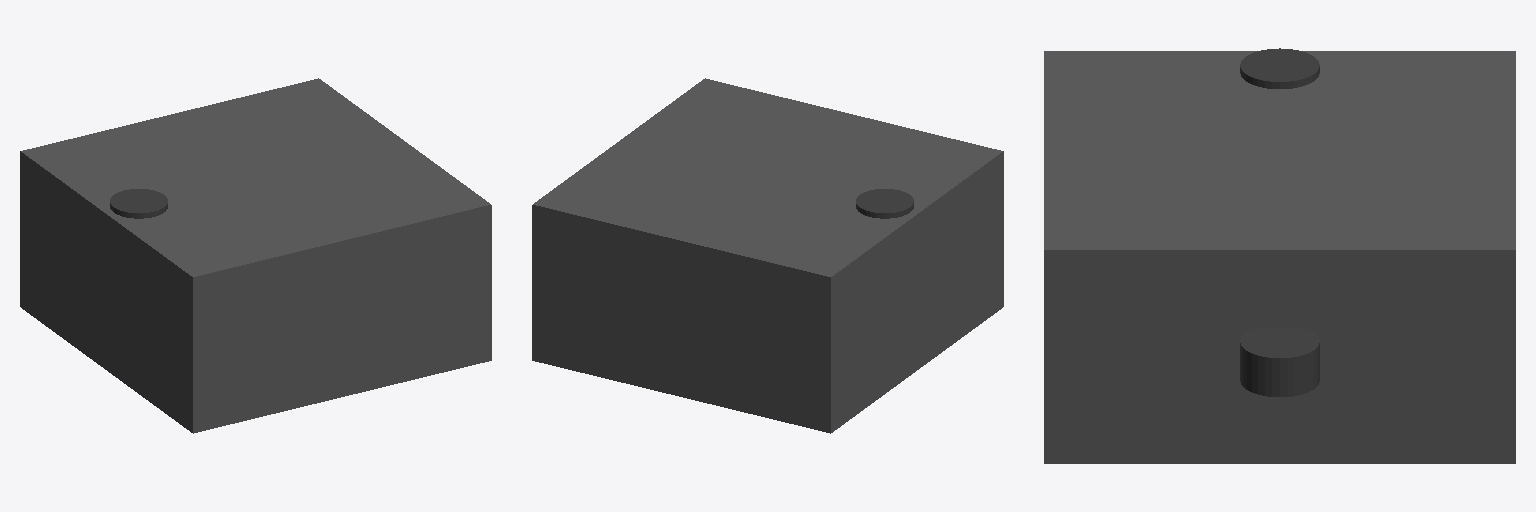
robot.urdf — sendbooster_agv:
<?xml version="1.0"?>
<robot name="sendbooster_agv"
  xmlns:xacro="http://ros.org/wiki/xacro">

  <!-- Material definitions -->
  <material name="black">
    <color rgba="0.0 0.0 0.0 1.0"/>
  </material>
  <material name="dark">
    <color rgba="0.3 0.3 0.3 1.0"/>
  </material>
  <material name="light_black">
    <color rgba="0.4 0.4 0.4 1.0"/>
  </material>

  <!-- Base footprint -->
  <link name="base_footprint"/>

  <joint name="base_joint" type="fixed">
    <parent link="base_footprint"/>
    <child link="base_link"/>
    <origin xyz="0 0 0" rpy="0 0 0"/>
  </joint>

  <!-- Base link -->
  <link name="base_link">
    <visual>
      <origin xyz="0 0 0.11725" rpy="0 0 0"/>
      <geometry>
        <box size="0.6 0.6 0.3"/>
      </geometry>
      <material name="light_black"/>
    </visual>

    <collision>
      <origin xyz="0 0 0.11725" rpy="0 0 0"/>
      <geometry>
        <box size="0.6 0.6 0.3"/>
      </geometry>
    </collision>
  </link>

  <!-- Left wheel -->
  <joint name="wheel_left_joint" type="continuous">
    <parent link="base_link"/>
    <child link="wheel_left_link"/>
    <origin xyz="0 0.16 0.09330" rpy="1.57 0 0"/>
    <axis xyz="0 0 1"/>
  </joint>

  <link name="wheel_left_link">
    <visual>
      <origin xyz="0 0 0" rpy="0 0 0"/>
      <geometry>
                <cylinder radius="0.0965" length="0.048"/>
      </geometry>
      <material name="dark"/>
    </visual>

    <collision>
      <origin xyz="0 0 0" rpy="0 0 0"/>
      <geometry>
        <cylinder radius="0.0965" length="0.048"/>
      </geometry>
    </collision>
  </link>

  <!-- Right wheel -->
  <joint name="wheel_right_joint" type="continuous">
    <parent link="base_link"/>
    <child link="wheel_right_link"/>
    <origin xyz="0 -0.16 0.09330" rpy="-1.57 0 0"/>
    <axis xyz="0 0 1"/>
  </joint>

  <link name="wheel_right_link">
    <visual>
      <origin xyz="0 0 0" rpy="0 0 0"/>
      <geometry>
                <cylinder radius="0.0965" length="0.048"/>
      </geometry>
      <material name="dark"/>
    </visual>

    <collision>
      <origin xyz="0 0 0" rpy="0 0 0"/>
      <geometry>
        <cylinder radius="0.0965" length="0.048"/>
      </geometry>
    </collision>
  </link>

  <!-- IMU -->
  <joint name="imu_joint" type="fixed">
    <parent link="base_link"/>
    <child link="imu_link"/>
    <origin xyz="0 0 0.1" rpy="0 0 0"/>
  </joint>

  <link name="imu_link"/>

  <!-- Front Lidar (cable faces rear, so rotate 180°) -->
  <joint name="lidar_joint" type="fixed">
    <parent link="base_link"/>
    <child link="base_scan"/>
    <origin xyz="0.34 0 0.13" rpy="0 0 3.14159"/>
  </joint>

  <link name="base_scan">
    <visual>
      <origin xyz="0 0 0" rpy="0 0 0"/>
      <geometry>
        <cylinder radius="0.0508" length="0.055"/>
      </geometry>
      <material name="dark"/>
    </visual>

    <collision>
      <origin xyz="0 0 0" rpy="0 0 0"/>
      <geometry>
        <cylinder radius="0.0508" length="0.055"/>
      </geometry>
    </collision>
  </link>

  <!-- Back Lidar -->
  <joint name="lidar_joint_back" type="fixed">
    <parent link="base_link"/>
    <child link="base_scan_back"/>
    <origin xyz="-0.235 0 0.25" rpy="0 0 3.14159"/>
  </joint>

  <link name="base_scan_back">
    <visual>
      <origin xyz="0 0 0" rpy="0 0 0"/>
      <geometry>
        <cylinder radius="0.0508" length="0.055"/>
      </geometry>
      <material name="dark"/>
    </visual>

    <collision>
      <origin xyz="0 0 0" rpy="0 0 0"/>
      <geometry>
        <cylinder radius="0.0508" length="0.055"/>
      </geometry>
    </collision>
  </link>

</robot>

--- Facts derived from the render (not from the file) ---
Views: 3 orthographic renders of the robot side by side, from view 1: azimuth 30°, elevation 25°; view 2: azimuth 150°, elevation 25°; view 3: azimuth 270°, elevation 25°.
Robot: sendbooster_agv — 7 links, 6 joints (2 continuous, 4 fixed); root link base_footprint; default pose: every joint at zero.
Visible links, largest first — view 1: base_link, base_scan_back; view 2: base_link, base_scan_back; view 3: base_link, base_scan, base_scan_back.
Link boxes in pixels (<box>): base_link: <box>20,78,491,433</box>; base_scan_back: <box>110,189,167,218</box>; base_link: <box>532,78,1003,433</box>; base_scan_back: <box>856,189,913,218</box>; base_link: <box>1044,51,1515,463</box>; base_scan: <box>1240,328,1319,396</box>; base_scan_back: <box>1240,48,1319,88</box>.
Size in the robot's own frame: 0.6908 by 0.6 by 0.3103 metres.
Geometry: primitives only (box / cylinder / sphere), no mesh files.
